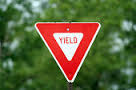yield_sign: (34, 20, 100, 83)
